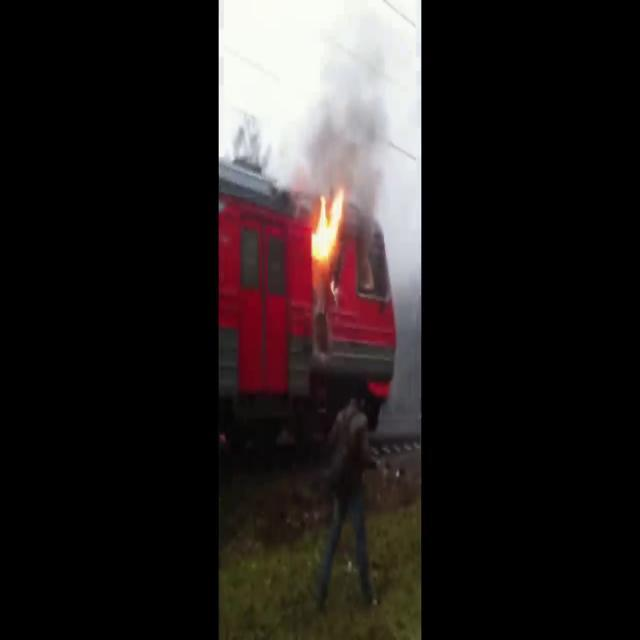Fire: (307, 183, 347, 271)
Smoke: (290, 1, 414, 214)
